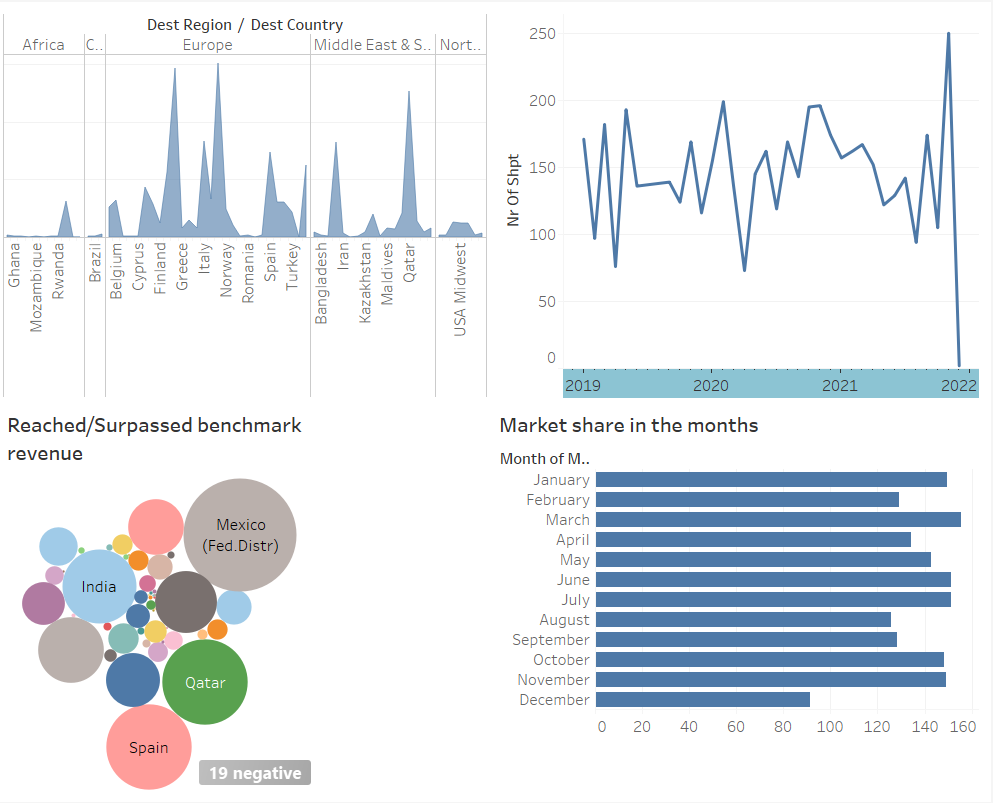

This screenshot's page, from the dashboard's own definition file:
{"tool":"tableau","page":{"name":"Dashboard 1","canvas":[1000,800],"ordinal":0},"visuals":[{"type":"worksheet","title":"destination area","mark":"Area","rows":["nr_of_shpt"],"cols":["dest_region","dest_country"],"box":[8,8,492,392]},{"type":"worksheet","title":"time","mark":"Line","rows":["nr_of_shpt"],"cols":["month"],"box":[500,8,492,392]},{"type":"worksheet","title":"target fulfill2","mark":"Circle","box":[8,400,492,392]},{"type":"worksheet","title":"time-market share","mark":"Bar","rows":["month"],"cols":["market_share"],"box":[500,400,492,392]}]}

Visuals, with their boxes in screenshot pixels (x1, y1, x2, y2), scaled from the page's 1000x800 canvas onto the 993x803 screenshot:
"destination area" worksheet (Area marks): (8, 8, 496, 401)
"time" worksheet (Line marks): (496, 8, 985, 401)
"target fulfill2" worksheet (Circle marks): (8, 401, 496, 795)
"time-market share" worksheet (Bar marks): (496, 401, 985, 795)
